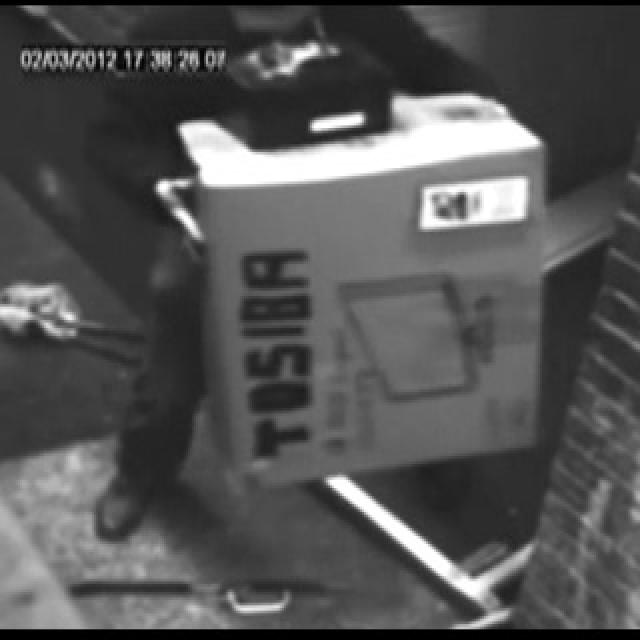thief: (187, 0, 335, 52)
